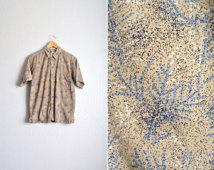C_short blouse: (11, 43, 88, 126)
